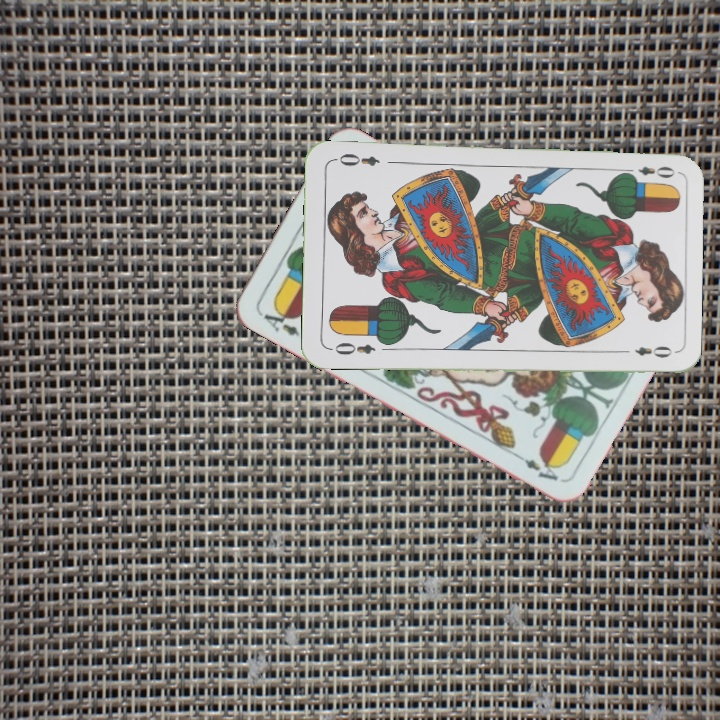EA: (256, 302, 310, 344)
EO: (619, 162, 677, 180), (326, 339, 378, 358)
